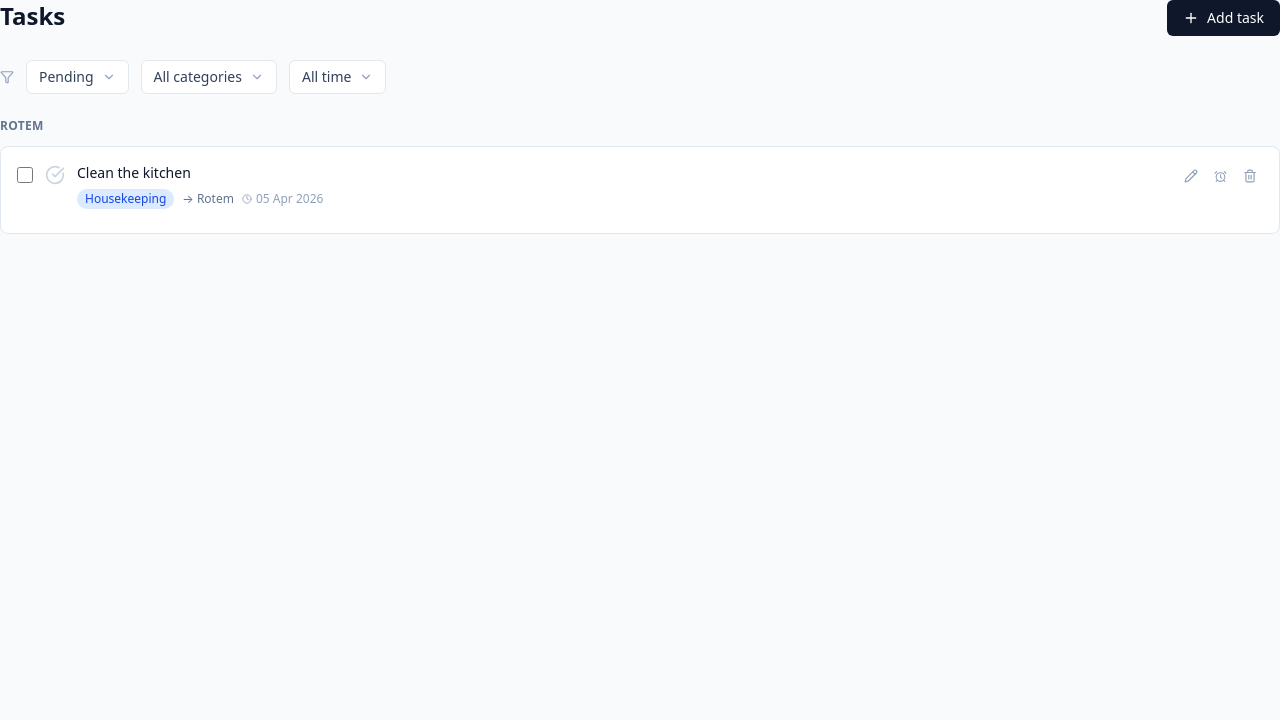
Tasks › edit action opens edit modal
Click the button named "Edit task".
click(1191, 176)  # box left=1178, top=163, right=1204, bottom=189
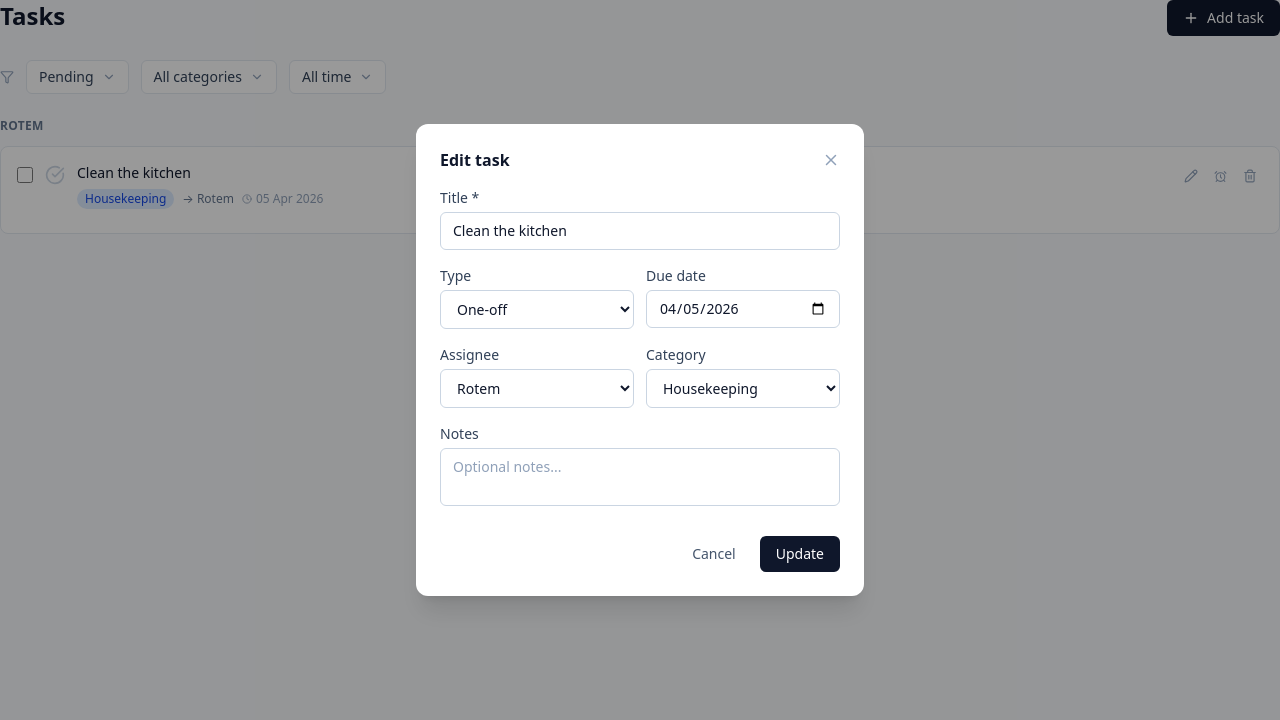
Check: the dialog is shown
Check: the heading "Edit task" is shown, box left=440, top=148, right=510, bottom=172
